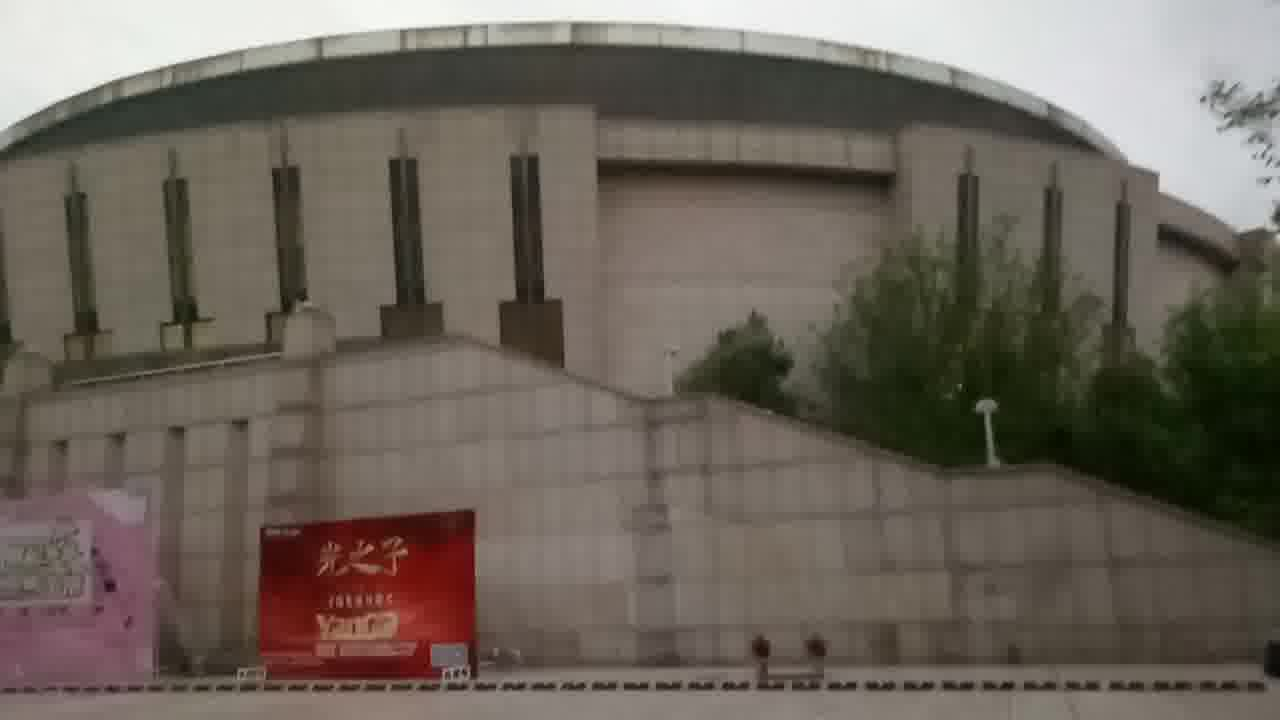zhongtiww: (6, 16, 1272, 704)
